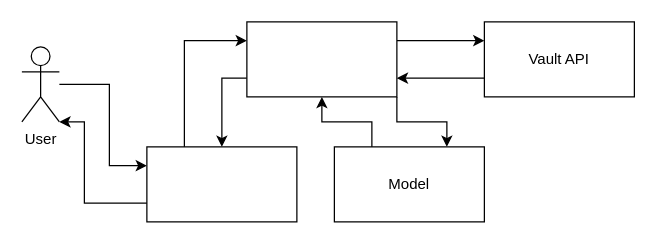
Some shapes in this 656 by 244 pixel diagram are drawn without their labels. The centre of each missing label's shape, as x and y in pixels:
"Controller" goes at (321,59).
"View" goes at (221,184).
